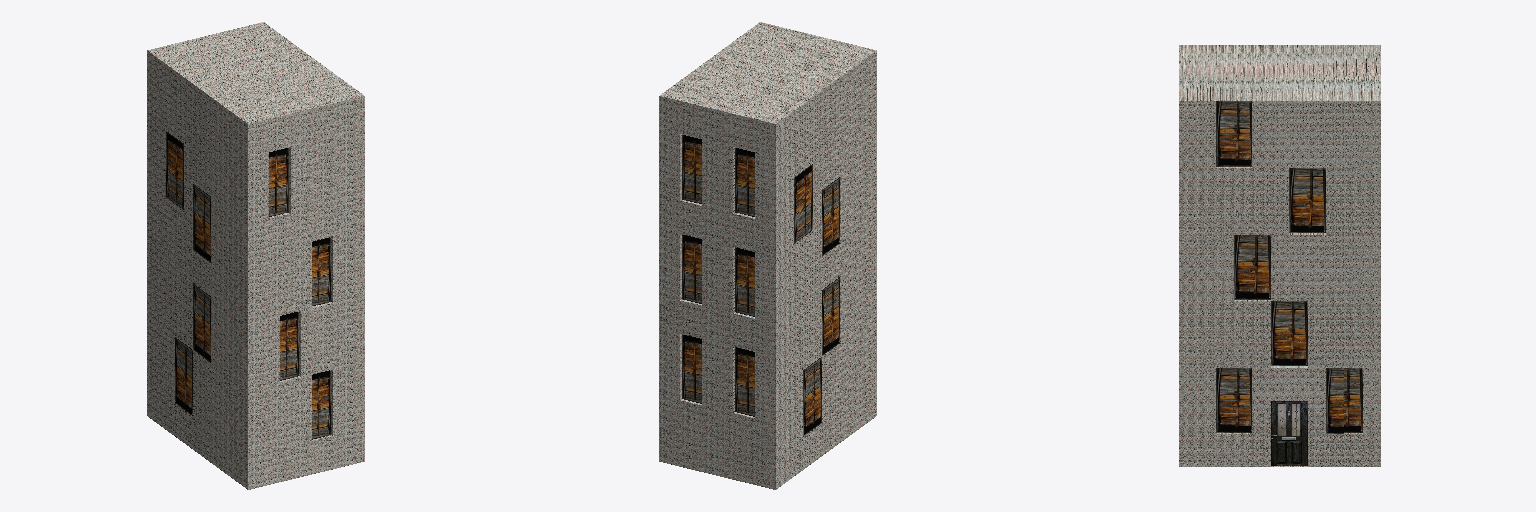
3 views of the same model, side by side, from view 1: azimuth 30°, elevation 25°; view 2: azimuth 150°, elevation 25°; view 3: azimuth 270°, elevation 25° (orthographic).
Visible parts, largest first — view 1: Cube; view 2: Cube; view 3: Cube.
Part boxes in pixels (x1,y1,x2,y2): Cube: (147,22,364,489); Cube: (659,22,876,489); Cube: (1179,45,1380,466).
Size of the model in its own units: 8 by 24 by 12.
Materials: 3 (3 with a texture image).